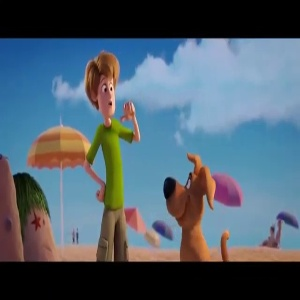Scooby: (154, 150, 216, 225)
Shagy: (78, 54, 128, 124)
